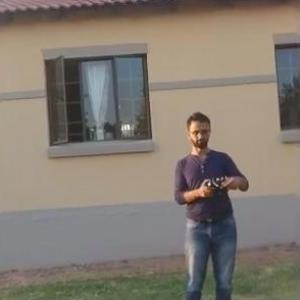follow: (169, 106, 255, 299)
